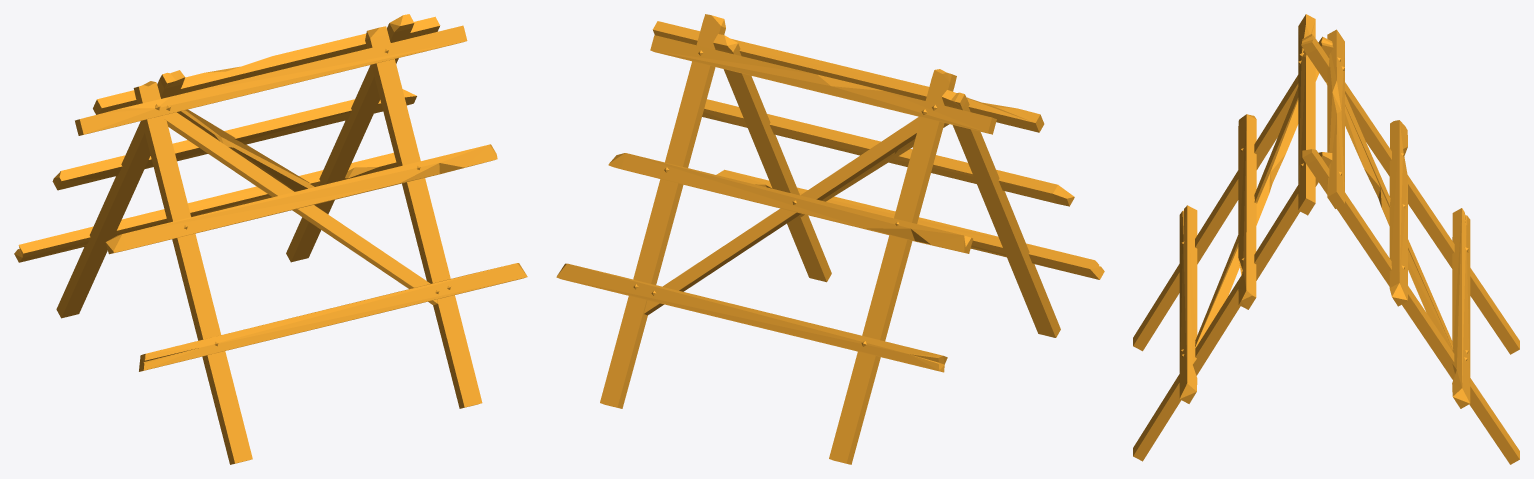
File: SM_Hay_Drying_Rack_Square_C.fbx
3 views of the same model, side by side, from view 1: azimuth 30°, elevation 25°; view 2: azimuth 150°, elevation 25°; view 3: azimuth 270°, elevation 25° (orthographic).
Parts seen in each view (by area): view 1: hay-drying-rack-square-c; view 2: hay-drying-rack-square-c; view 3: hay-drying-rack-square-c.
Part boxes in pixels (x1,y1,x2,y2): hay-drying-rack-square-c: (14,14,527,464); hay-drying-rack-square-c: (556,14,1104,464); hay-drying-rack-square-c: (1133,14,1519,464).
Size of the model in its own units: 2.04 by 1.56 by 1.72.
